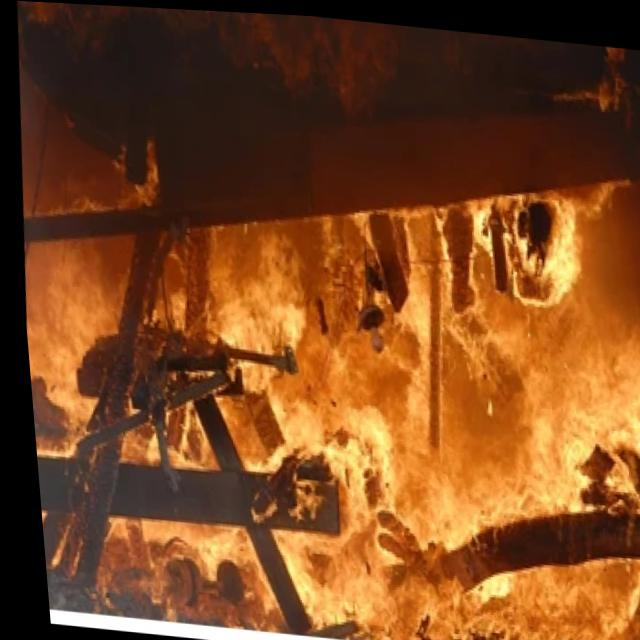Fire: (371, 308, 640, 640), (194, 228, 403, 607), (472, 196, 591, 298)
